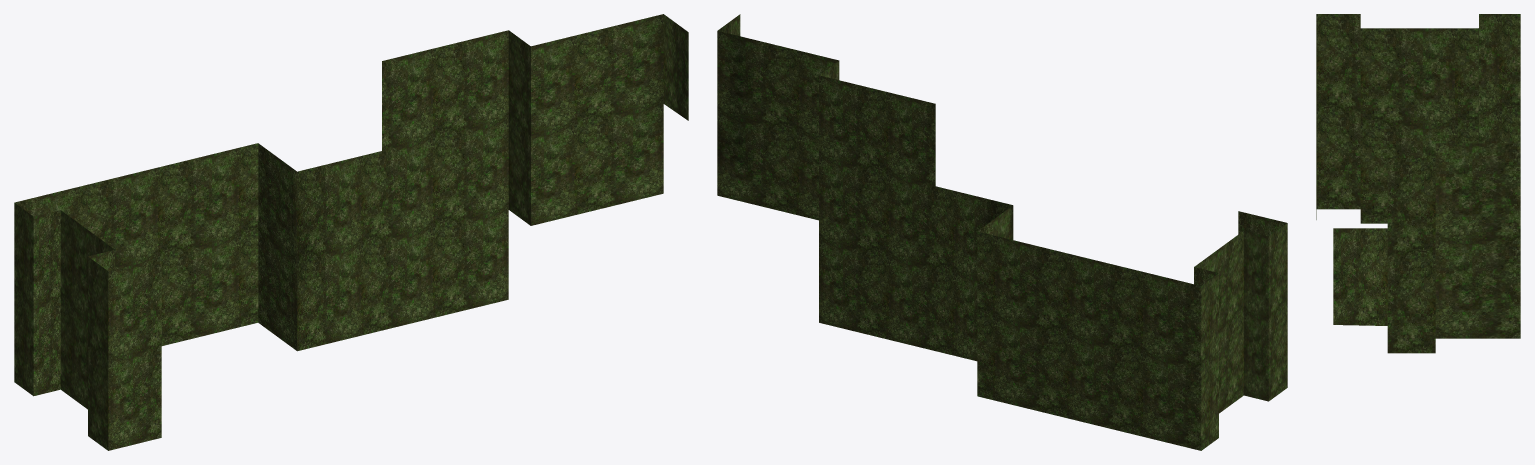
File: OVERHILL_A_01_OBJECT84.fbx
The picture shows the model from 3 angles, left to right: view 1: azimuth 30°, elevation 25°; view 2: azimuth 150°, elevation 25°; view 3: azimuth 270°, elevation 25°; orthographic projection. The views are drawn at different scales.
Parts seen in each view (by area): view 1: OVERHILL_A_01_OBJECT84; view 2: OVERHILL_A_01_OBJECT84; view 3: OVERHILL_A_01_OBJECT84.
Boxes of the visible parts, x1,y1,x2,y2 form: OVERHILL_A_01_OBJECT84: (14, 14, 688, 450); OVERHILL_A_01_OBJECT84: (717, 14, 1287, 450); OVERHILL_A_01_OBJECT84: (1316, 14, 1520, 353).
Bounding box in the file's own units: 216868 × 94950 × 60000.
1 material, 1 textured.
